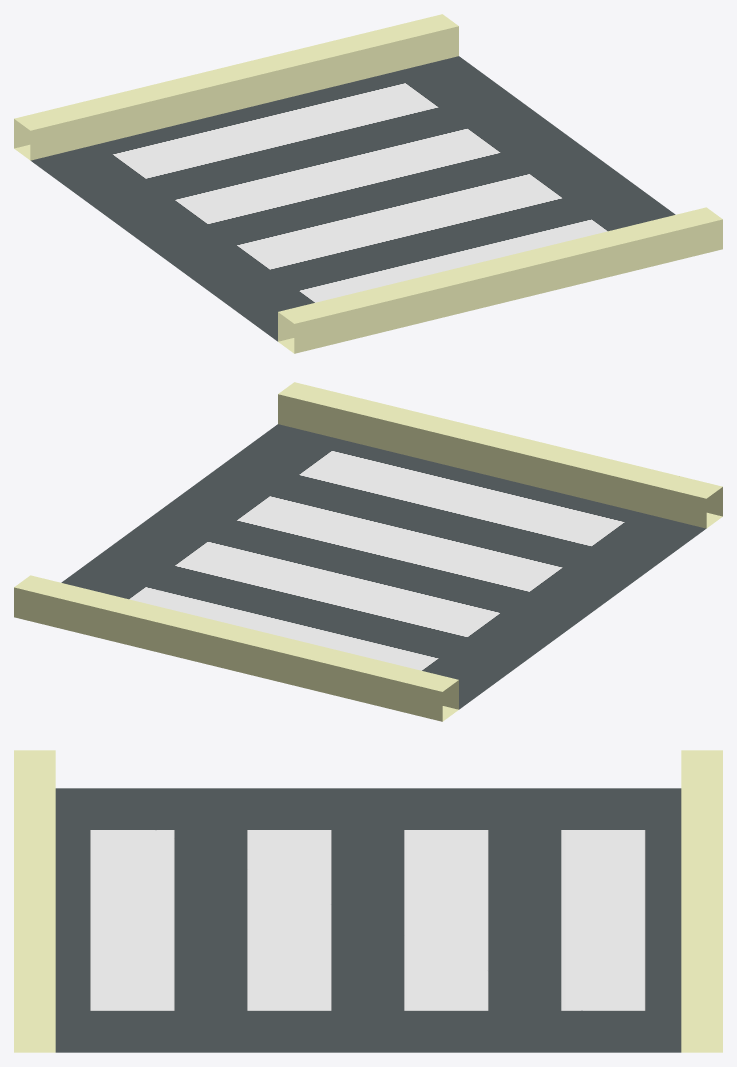
The model's file is road_sidewalk3_vertical.fbx.
3 renders of one model, top to bottom at view 1: azimuth 30°, elevation 25°; view 2: azimuth 150°, elevation 25°; view 3: azimuth 270°, elevation 25°, orthographic. The views are drawn at different scales.
Parts seen in each view (by area): view 1: pPlane1, pPlane2, pPlane3; view 2: pPlane1, pPlane2, pPlane3; view 3: pPlane1, pPlane2, pPlane3.
Part boxes in pixels (<box>): pPlane1: <box>31,56,675,341</box>; pPlane2: <box>278,207,722,353</box>; pPlane3: <box>14,14,458,160</box>; pPlane1: <box>61,424,705,709</box>; pPlane2: <box>278,382,722,528</box>; pPlane3: <box>14,575,458,721</box>; pPlane1: <box>55,788,681,1052</box>; pPlane2: <box>14,750,55,1052</box>; pPlane3: <box>681,750,722,1052</box>.
Bounding box in the file's own units: 100 × 6.67 × 113.
